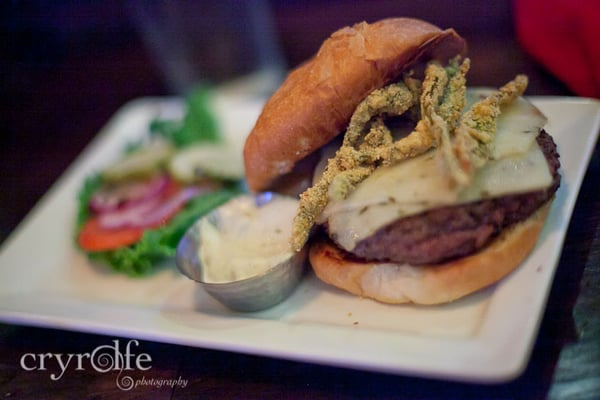soup: (241, 18, 557, 306)
sushi: (175, 189, 308, 312)
